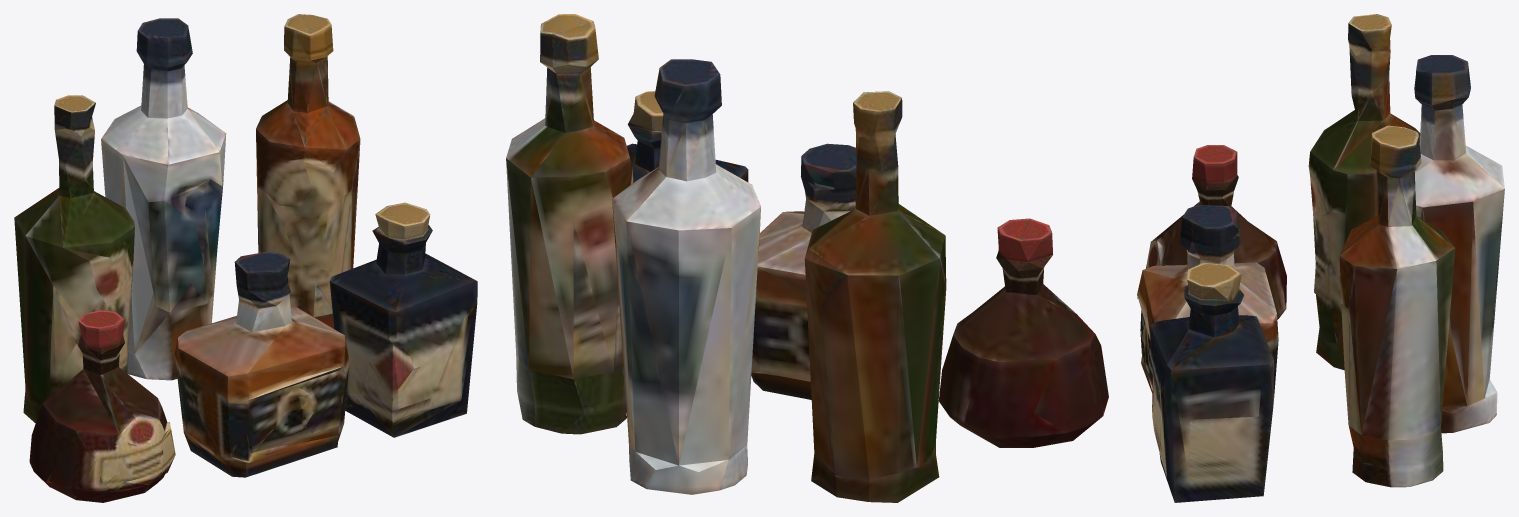
File: garrafas.glb
3 renders of one model, left to right at view 1: azimuth 30°, elevation 25°; view 2: azimuth 150°, elevation 25°; view 3: azimuth 270°, elevation 25°, orthographic. The views are drawn at different scales.
Visible parts, largest first — view 1: Mesh_0; view 2: Mesh_0; view 3: Mesh_0.
Part boxes in pixels (bbox=[...]): Mesh_0: bbox=[14, 14, 477, 502]; Mesh_0: bbox=[506, 14, 1108, 502]; Mesh_0: bbox=[1137, 14, 1504, 502].
Bounding box in the file's own units: 0.4529 × 0.35 × 0.3323.
Materials: 1 (1 with a texture image).
